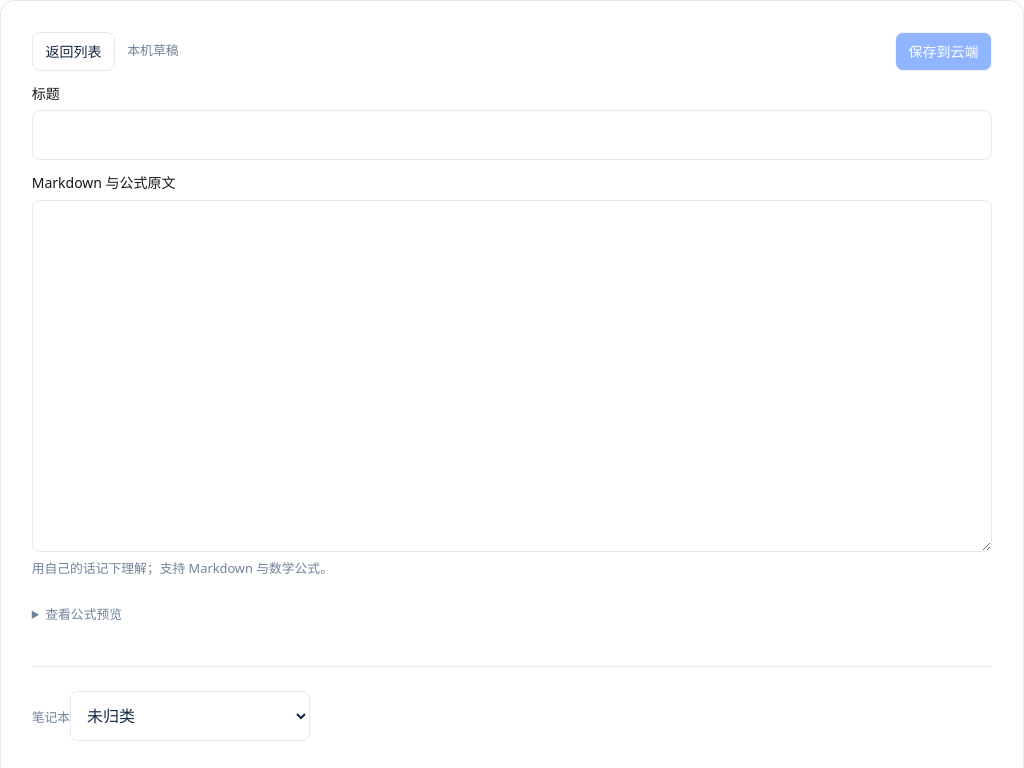
Test: NoteComposer durable local protection › does not change the original notebook while a create outcome is uncertain
The width and height of the screenshot is (1024, 768).
In the field labelled "标题": (512, 135) [32, 110, 992, 160], type "原稿"
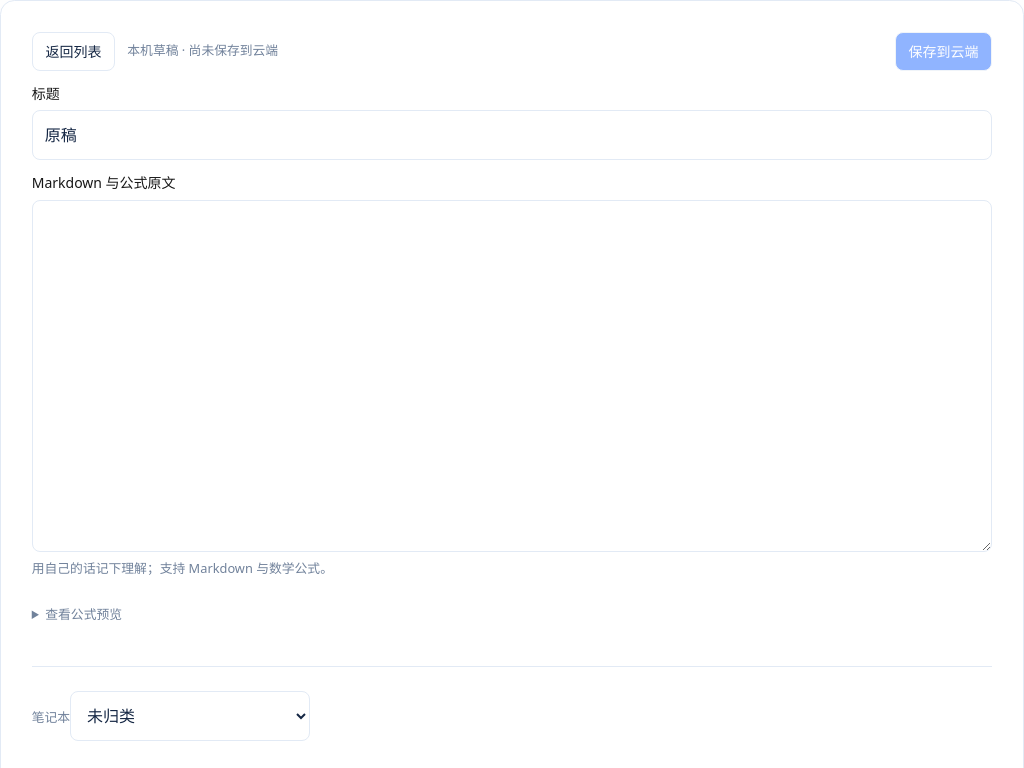
In the text box labelled "Markdown 与公式原文": (512, 376) [32, 200, 992, 552], type "原正文"
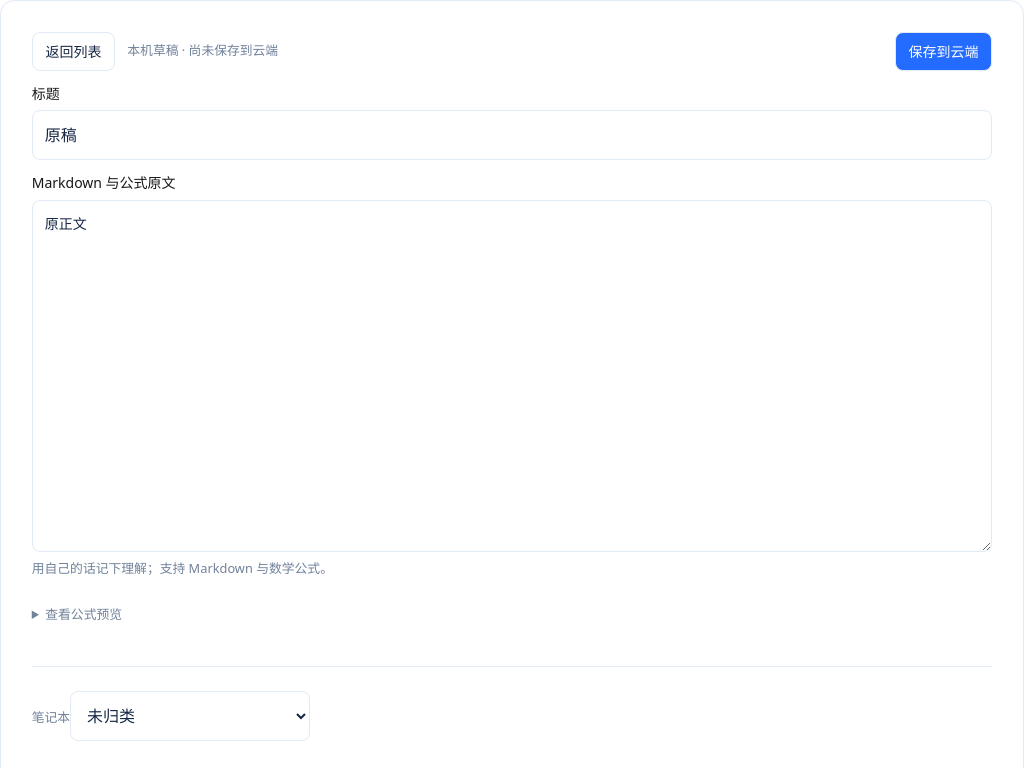
Select "笔记本0" in the dropdown labelled "笔记本": (190, 716) [70, 691, 310, 741]
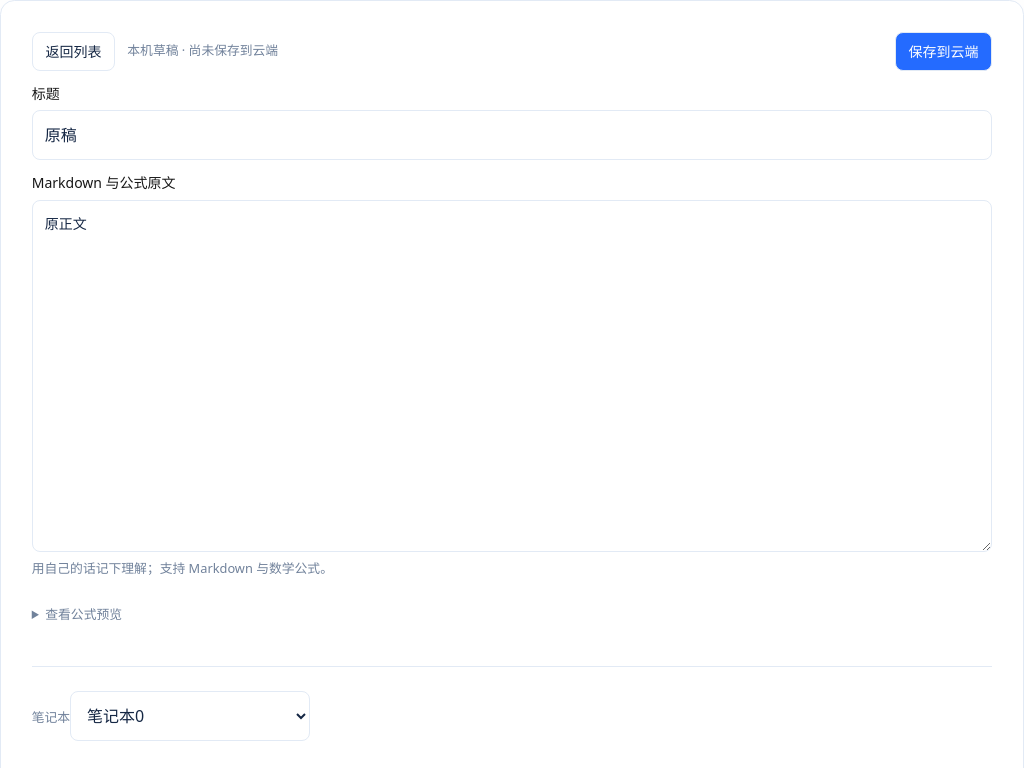
Click the button "保存到云端": (944, 51) [895, 32, 992, 71]
(page scrolled)
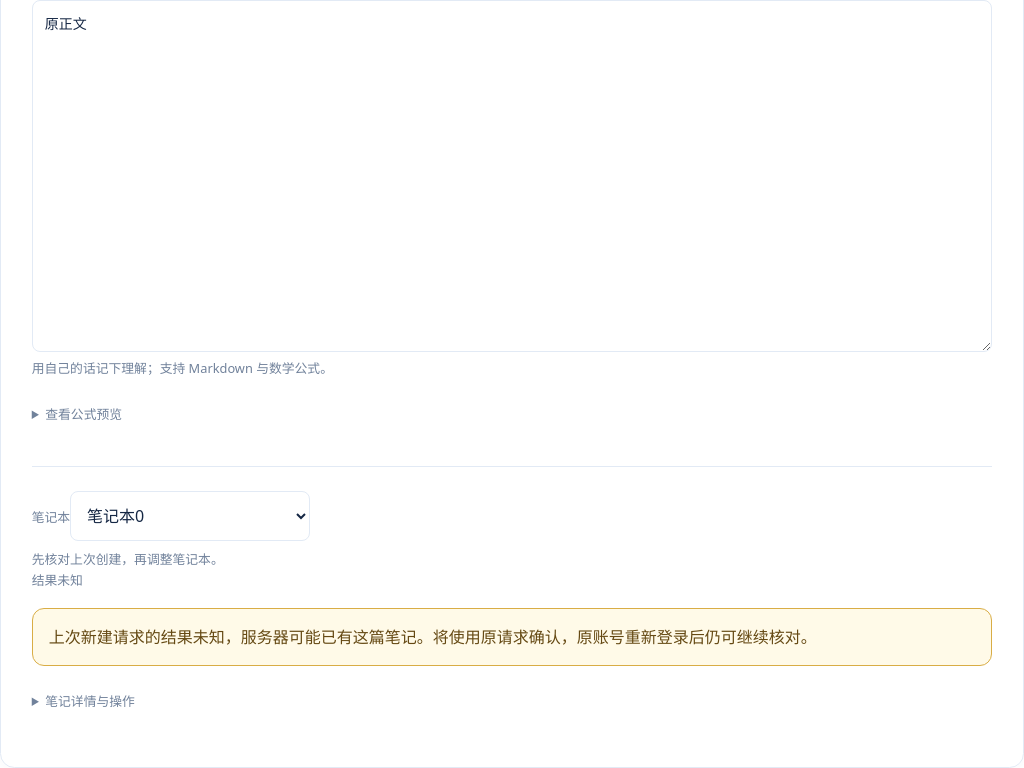
Now the dropdown labelled "笔记本" is disabled, box [70, 491, 310, 541]
Now the text "先核对上次创建，再调整笔记本。" is shown, box [32, 550, 224, 568]
